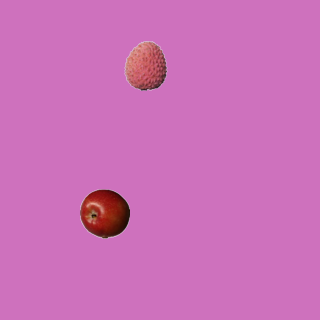Apple Braeburn: (79, 188, 129, 238)
Lychee: (120, 40, 170, 90)
